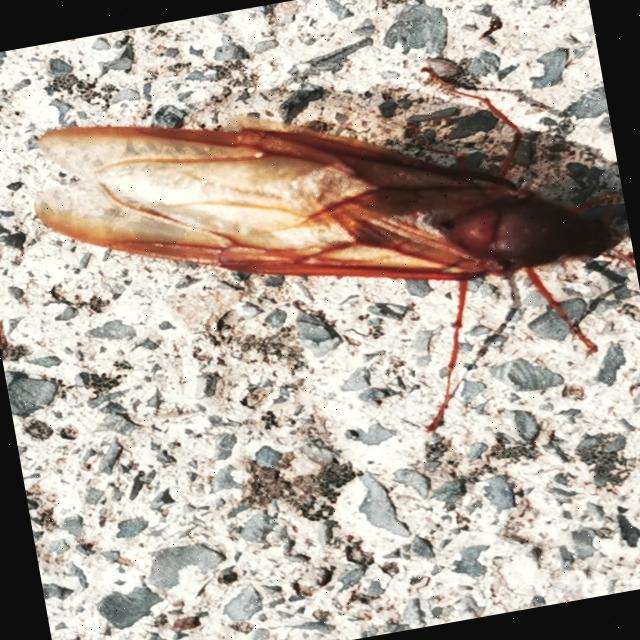Alive-Male-Alate: (20, 32, 640, 495)
